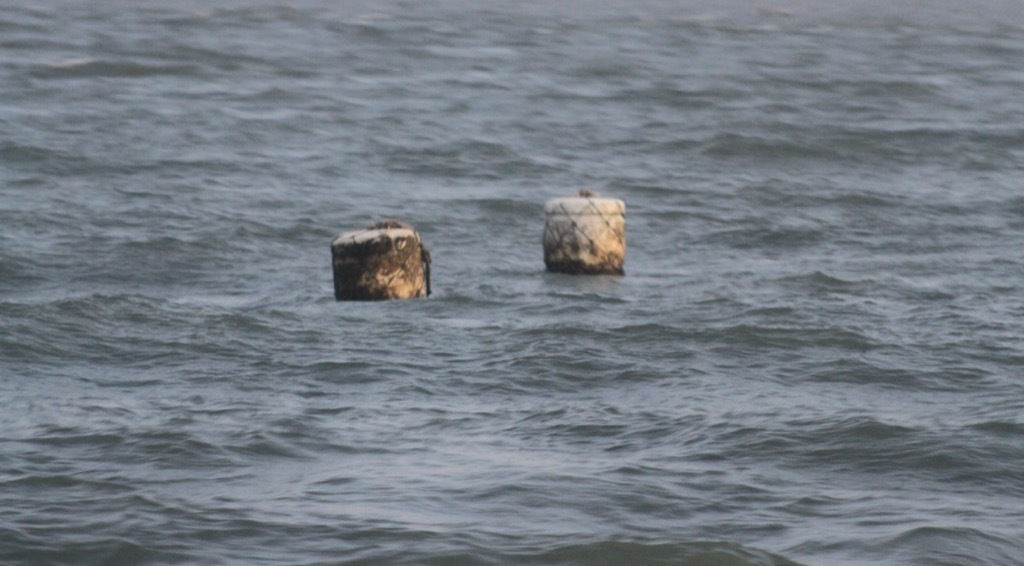plastic: (262, 171, 478, 345), (493, 145, 677, 323)
